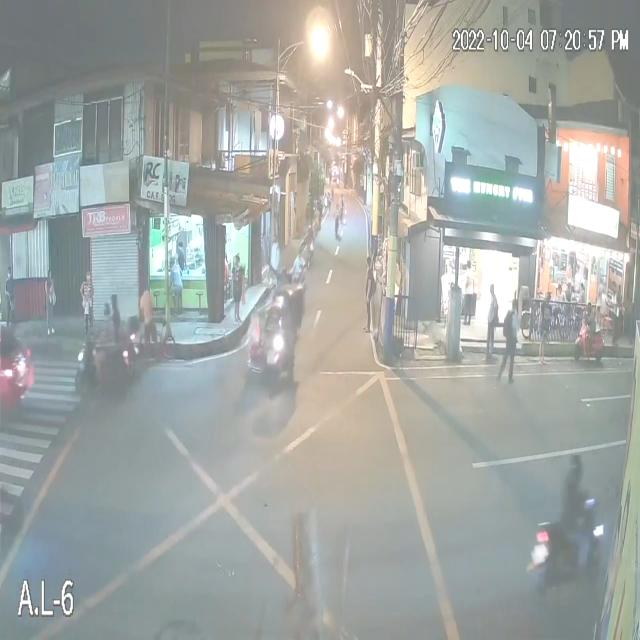Full-Faced: (566, 450, 584, 485)
